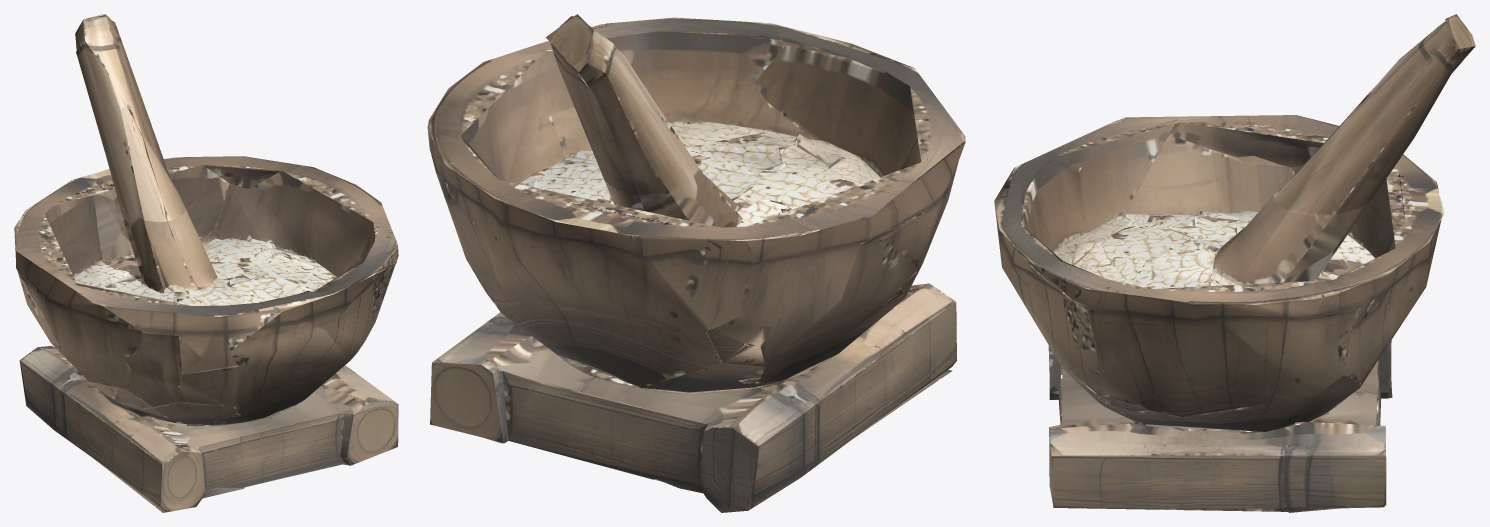
Rendered from turtle-mt-rice-mortar.glb.
The picture shows the model from 3 angles, left to right: view 1: azimuth 30°, elevation 25°; view 2: azimuth 150°, elevation 25°; view 3: azimuth 270°, elevation 25°; orthographic projection. The views are drawn at different scales.
Visible parts, largest first — view 1: Mesh_0; view 2: Mesh_0; view 3: Mesh_0.
Part boxes in pixels (left/top/right/bottom): Mesh_0: left=14, top=14, right=398, bottom=512; Mesh_0: left=427, top=14, right=965, bottom=512; Mesh_0: left=994, top=14, right=1475, bottom=512.
Size of the model in its own units: 0.0487 by 0.05 by 0.0511.
1 material, 1 textured.
